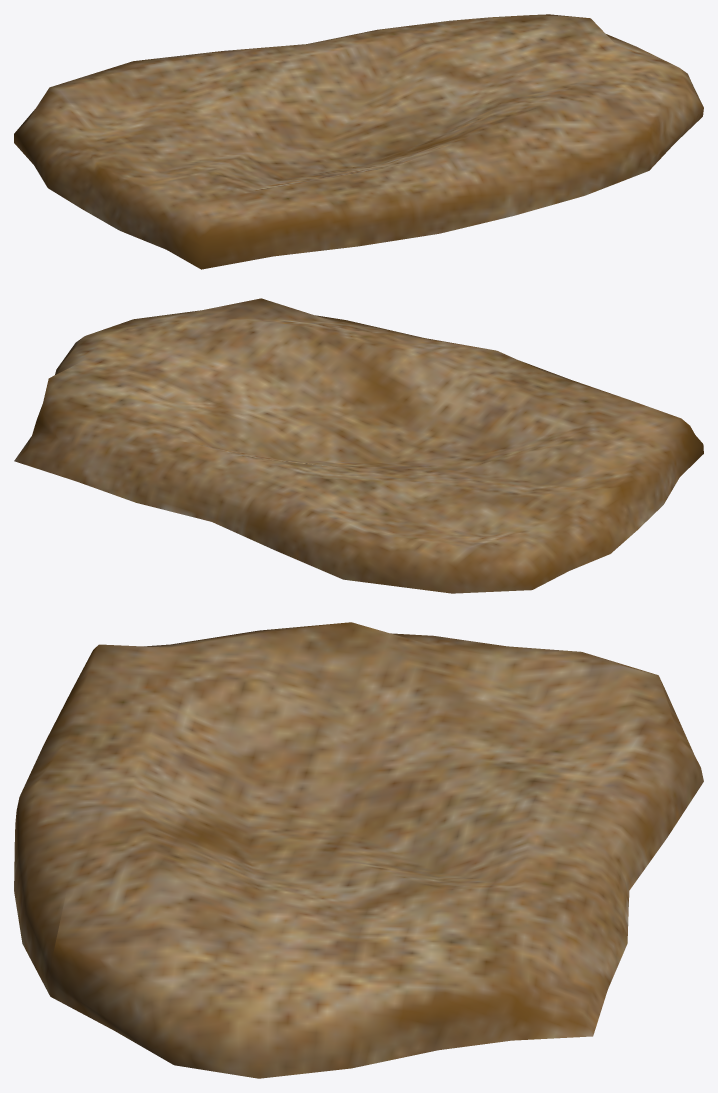
File: Hay mat 2.fbx
3 renders of one model, top to bottom at view 1: azimuth 30°, elevation 25°; view 2: azimuth 150°, elevation 25°; view 3: azimuth 270°, elevation 25°, orthographic. The views are drawn at different scales.
Visible parts, largest first — view 1: Hay mat 2; view 2: Hay mat 2; view 3: Hay mat 2.
Boxes of the visible parts, x1,y1,x2,y2 form: Hay mat 2: (14,14,703,269); Hay mat 2: (14,298,703,593); Hay mat 2: (14,622,703,1078).
Size of the model in its own units: 1.03 by 0.0903 by 0.7166.
